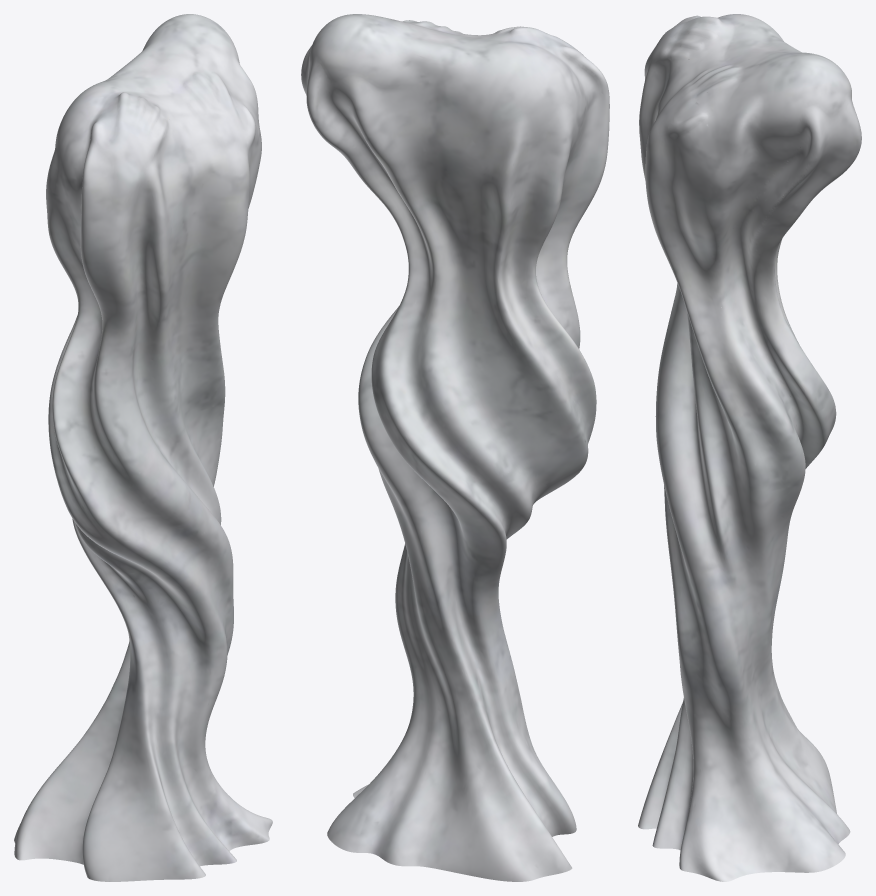
3 views of the same model, side by side, from view 1: azimuth 30°, elevation 25°; view 2: azimuth 150°, elevation 25°; view 3: azimuth 270°, elevation 25° (orthographic). The views are drawn at different scales.
Visible parts, largest first — view 1: statuya-01; view 2: statuya-01; view 3: statuya-01.
Boxes of the visible parts, bbox=[...] form: statuya-01: bbox=[14, 14, 272, 881]; statuya-01: bbox=[301, 14, 609, 881]; statuya-01: bbox=[638, 14, 861, 881].
Size of the model in its own units: 0.5198 by 1.64 by 0.4153.
1 material, 1 textured.
